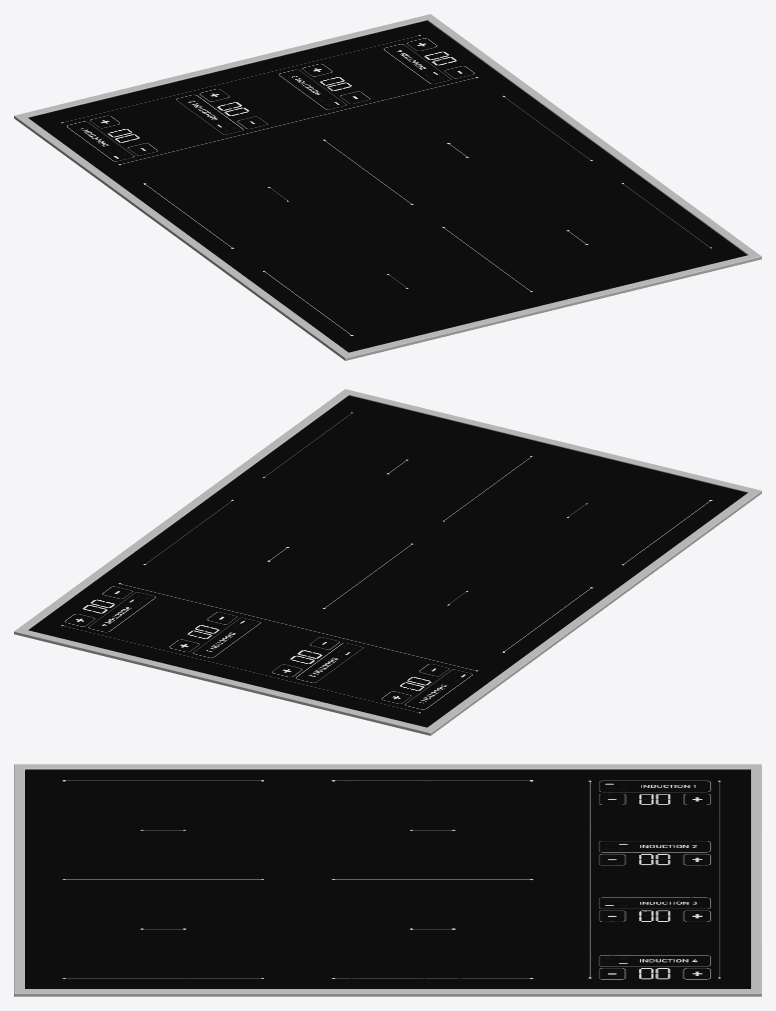
File: induction_stove_1.fbx
3 views of the same model, one above another, from view 1: azimuth 30°, elevation 25°; view 2: azimuth 150°, elevation 25°; view 3: azimuth 270°, elevation 25° (orthographic). The views are drawn at different scales.
Visible parts, largest first — view 1: HERD_Elektrisch_klein; view 2: HERD_Elektrisch_klein; view 3: HERD_Elektrisch_klein.
Part boxes in pixels (<box>): HERD_Elektrisch_klein: <box>14,14,761,360</box>; HERD_Elektrisch_klein: <box>14,389,761,735</box>; HERD_Elektrisch_klein: <box>14,764,761,996</box>.
Bounding box in the file's own units: 88.42 × 0.6056 × 122.
